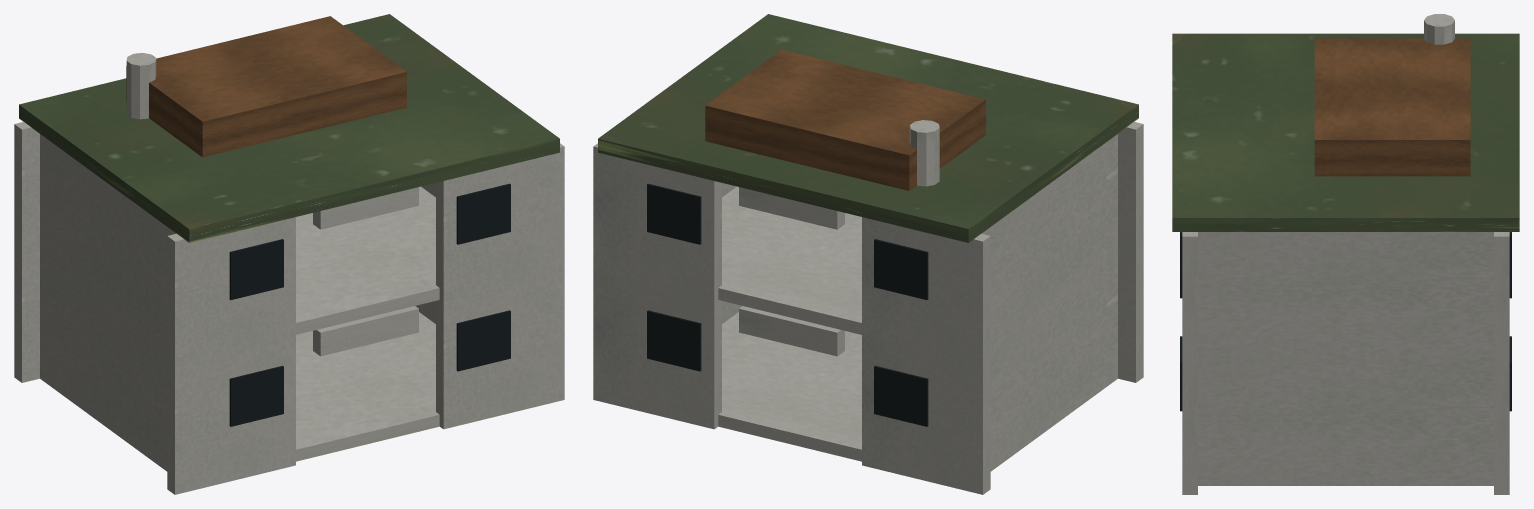
The model's file is house.fbx.
The picture shows the model from 3 angles, left to right: view 1: azimuth 30°, elevation 25°; view 2: azimuth 150°, elevation 25°; view 3: azimuth 270°, elevation 25°; orthographic projection.
Visible parts, largest first — view 1: roof, attic, wall_right, wall_right.001, floor_0, floor_1, wall_front_r, wall_front_l, wall_front_r.001, wall_front_l.001, wall_back_r.001, wall_back_r (+7 smaller); view 2: roof, attic, wall_right, wall_right.001, floor_0, floor_1, wall_back_r, wall_back_l, wall_back_r.001, wall_back_l.001, wall_front_r.001, wall_front_r (+7 smaller); view 3: roof, wall_left, wall_left.001, attic, wall_back_l.001, wall_front_l.001, wall_back_l, wall_front_l, chimney.
Part boxes in pixels (left/top/right/bottom): roof: left=19, top=14, right=559, bottom=242; attic: left=126, top=16, right=406, bottom=157; wall_right: left=40, top=252, right=167, bottom=471; wall_right.001: left=40, top=134, right=175, bottom=344; floor_0: left=296, top=312, right=439, bottom=461; floor_1: left=296, top=186, right=439, bottom=334; wall_front_r: left=167, top=339, right=295, bottom=494; wall_front_l: left=436, top=273, right=564, bottom=429; wall_front_r.001: left=167, top=217, right=295, bottom=367; wall_front_l.001: left=436, top=143, right=564, bottom=302; wall_back_r.001: left=14, top=121, right=39, bottom=256; wall_back_r: left=14, top=251, right=39, bottom=382; roof: left=598, top=14, right=1138, bottom=242; attic: left=705, top=49, right=985, bottom=190; wall_right: left=990, top=252, right=1117, bottom=471; wall_right.001: left=982, top=134, right=1117, bottom=344; floor_0: left=718, top=312, right=861, bottom=461; floor_1: left=718, top=186, right=861, bottom=334; wall_back_r: left=862, top=339, right=990, bottom=494; wall_back_l: left=593, top=273, right=721, bottom=429; wall_back_r.001: left=862, top=217, right=990, bottom=367; wall_back_l.001: left=593, top=143, right=721, bottom=302; wall_front_r.001: left=1118, top=121, right=1143, bottom=256; wall_front_r: left=1118, top=251, right=1143, bottom=382; roof: left=1172, top=33, right=1519, bottom=231; wall_left: left=1198, top=357, right=1493, bottom=485; wall_left.001: left=1198, top=232, right=1493, bottom=356; attic: left=1314, top=38, right=1470, bottom=176; wall_back_l.001: left=1494, top=232, right=1509, bottom=365; wall_front_l.001: left=1182, top=232, right=1197, bottom=365; wall_back_l: left=1494, top=365, right=1509, bottom=494; wall_front_l: left=1182, top=365, right=1197, bottom=494; chimney: left=1424, top=14, right=1454, bottom=44.
Size of the model in its own units: 1030 by 810 by 780.
